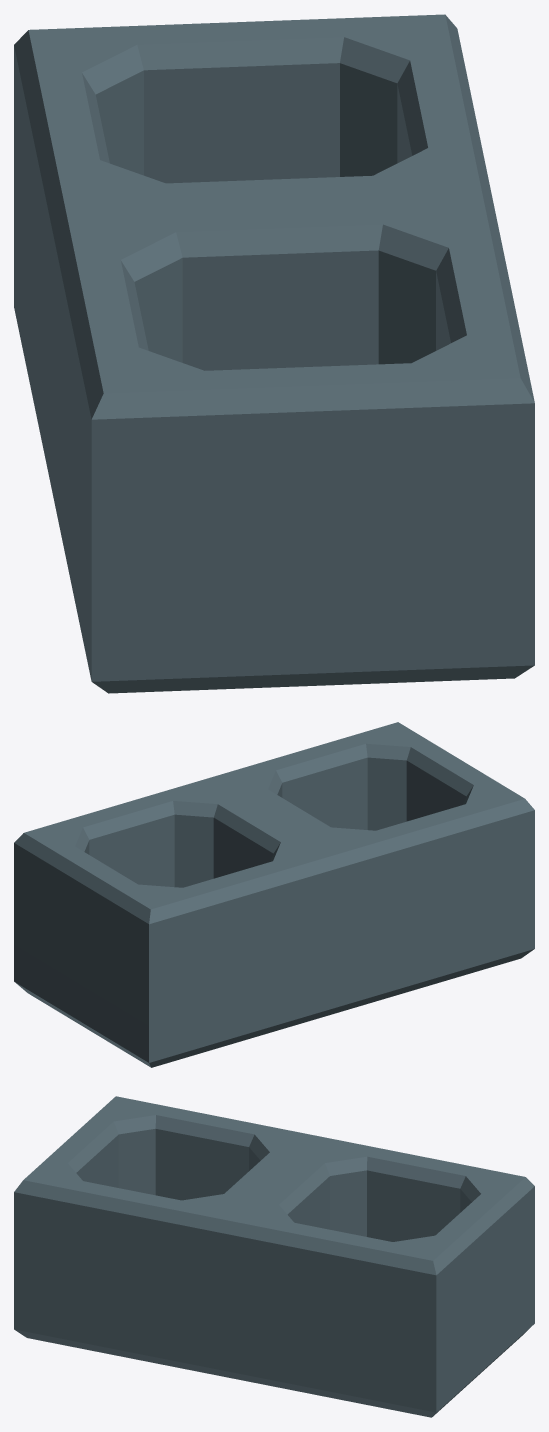
File: brick_a008.glb
The picture shows the model from 3 angles, top to bottom: view 1: azimuth 30°, elevation 25°; view 2: azimuth 150°, elevation 25°; view 3: azimuth 270°, elevation 25°; orthographic projection. The views are drawn at different scales.
Parts seen in each view (by area): view 1: brick_a008; view 2: brick_a008; view 3: brick_a008.
Part boxes in pixels (box(x1,y1,x2,y2)): brick_a008: box(14, 14, 534, 693); brick_a008: box(14, 722, 534, 1067); brick_a008: box(14, 1096, 534, 1417).
Bounding box in the file's own units: 0.3503 × 0.1499 × 0.447.
Materials: 1 (1 with a texture image).
